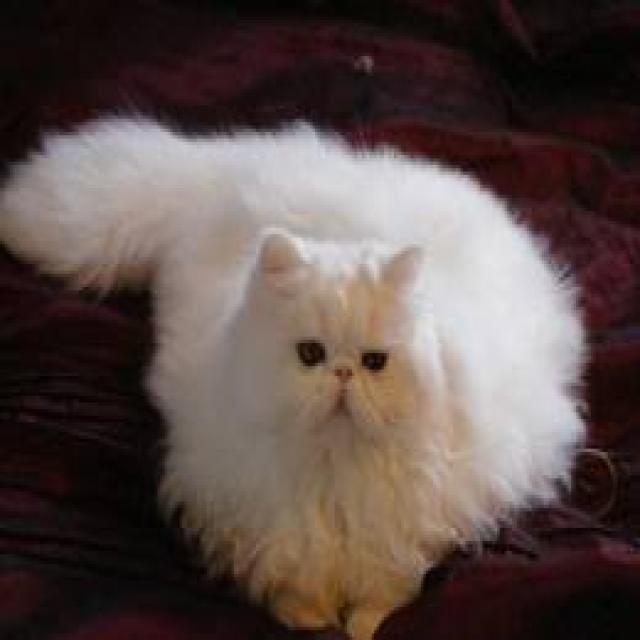Persian: (231, 221, 453, 477)
